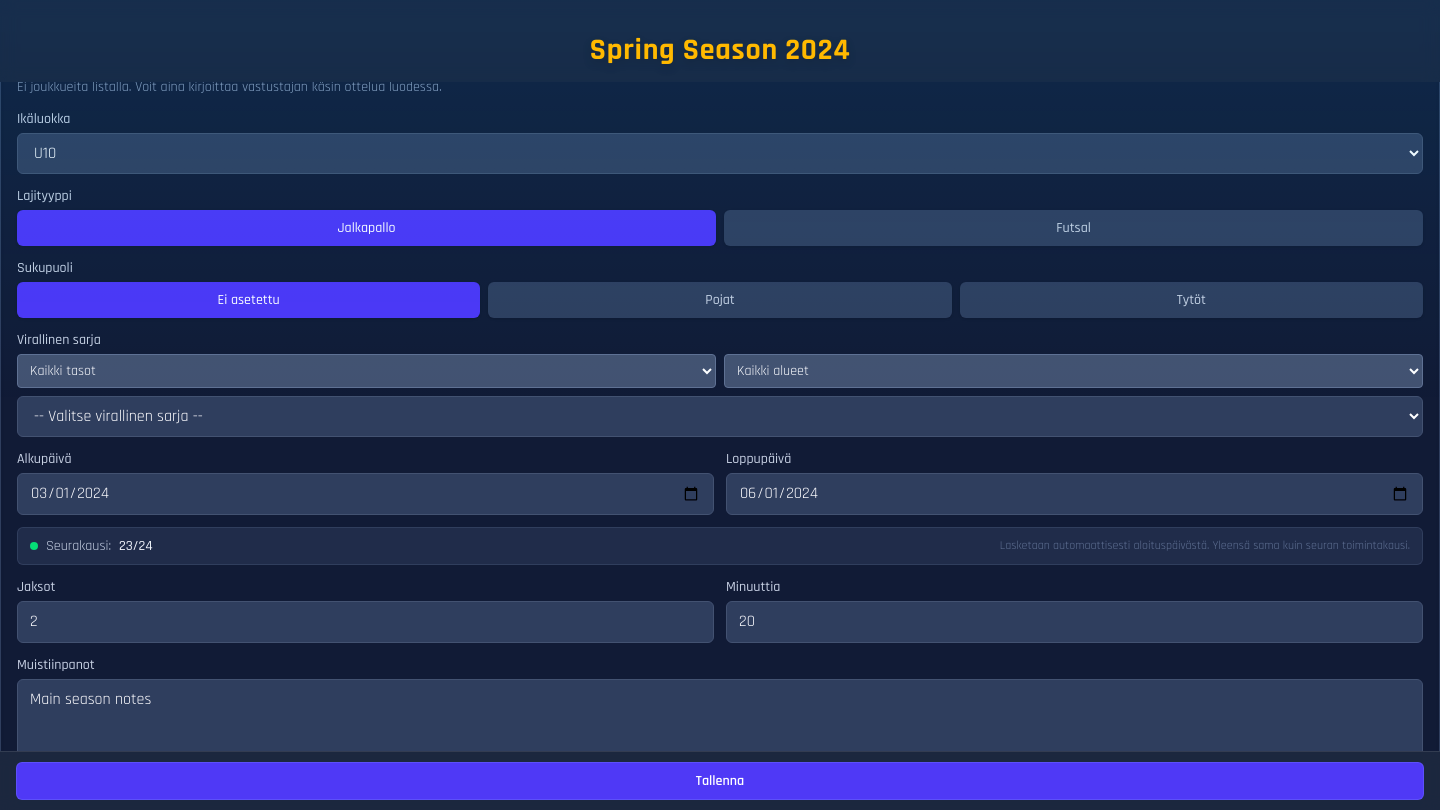
Test: SeasonDetailsModal › League Selection › shows error when "Muu" is selected but custom name is empty
(page scrolled)
// Find and select "Muu" league
Select "Muu (vapaa kuvaus)" in the dropdown with id "season-league" at {"x": 720, "y": 416}, box top-left (17, 396), bottom-right (1423, 436)
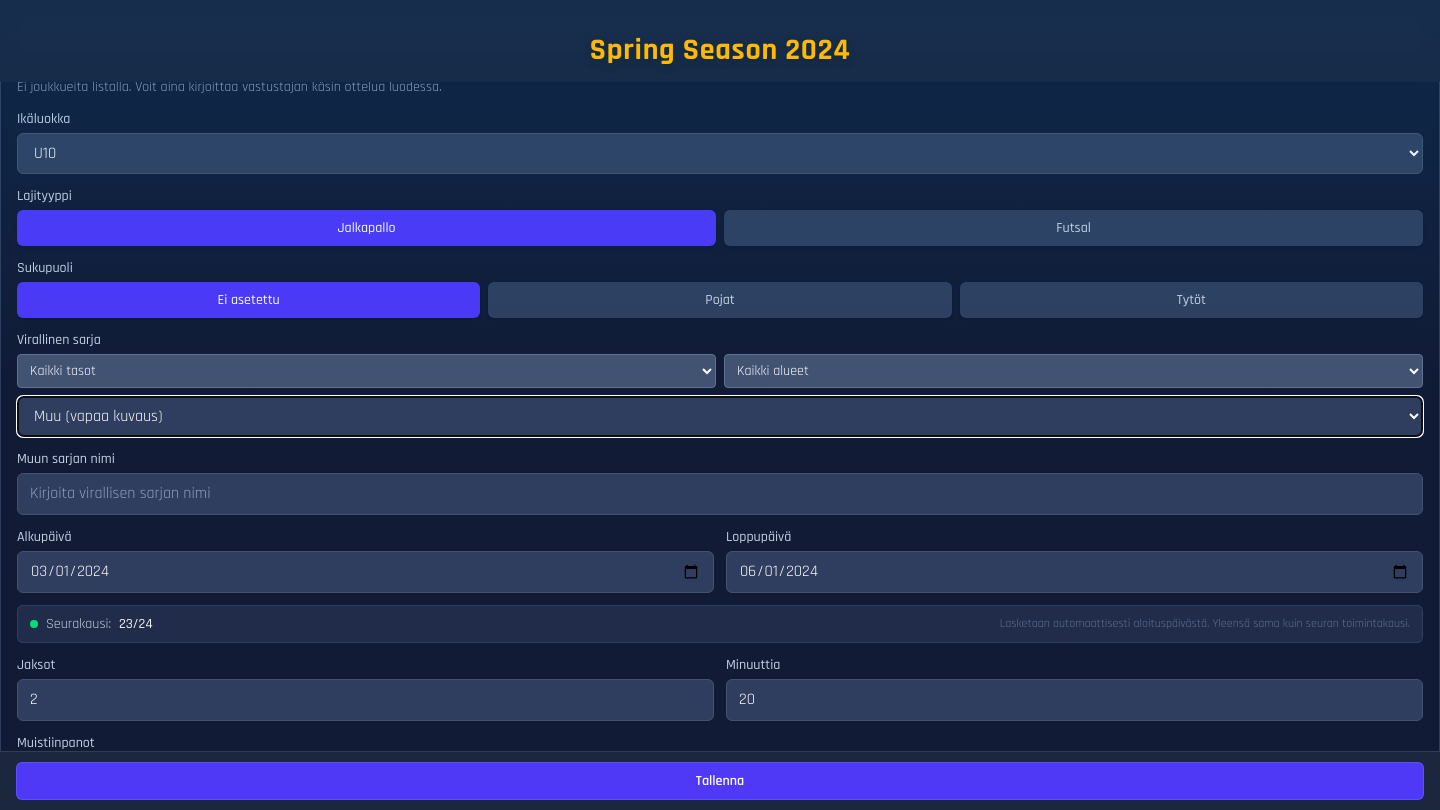
// Click save
Click the button "Tallenna" at {"x": 720, "y": 781}, box top-left (16, 762), bottom-right (1424, 800)
(page scrolled)
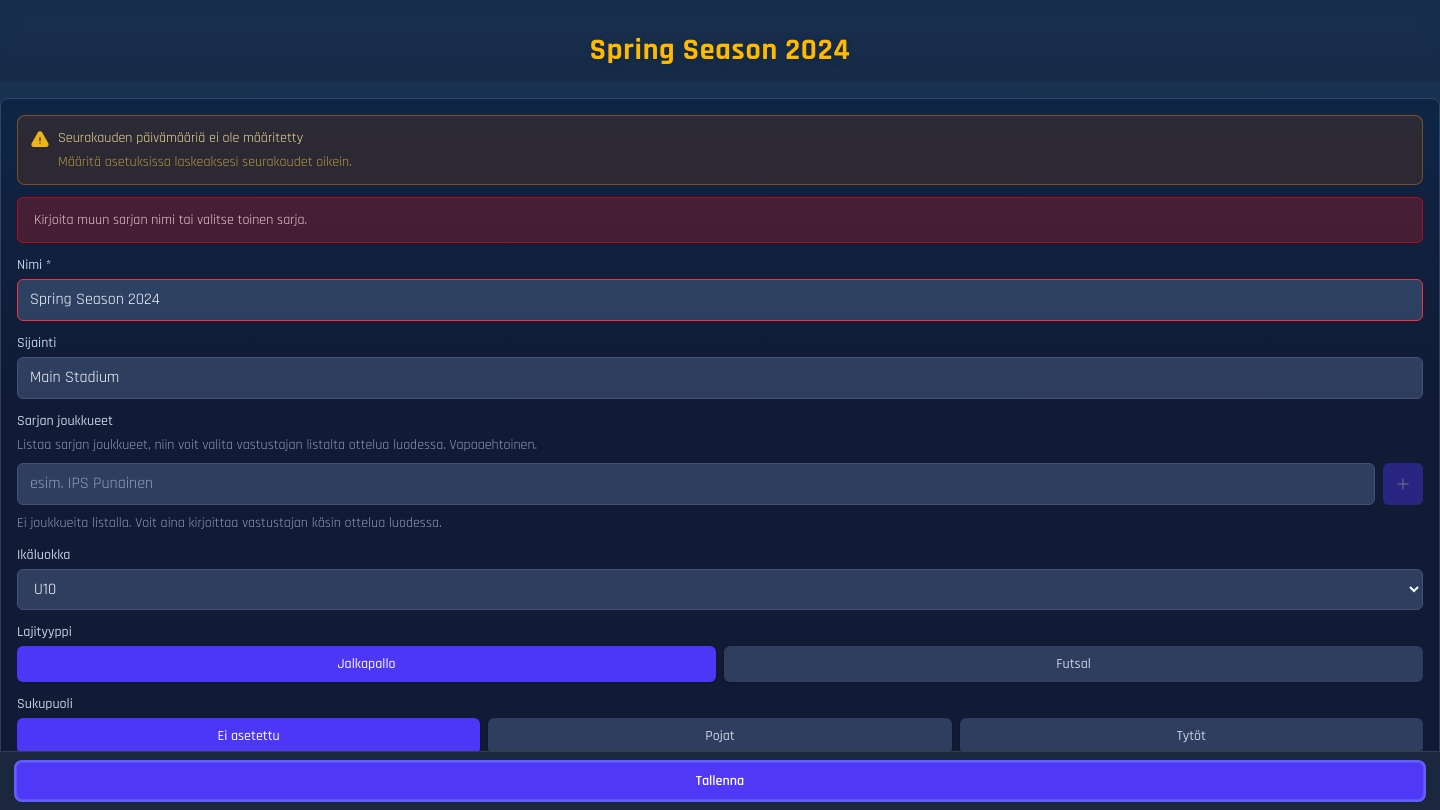
Check: the text "Kirjoita muun sarjan nimi tai valitse toinen sarja." is shown, box top-left (17, 196), bottom-right (1423, 242)
